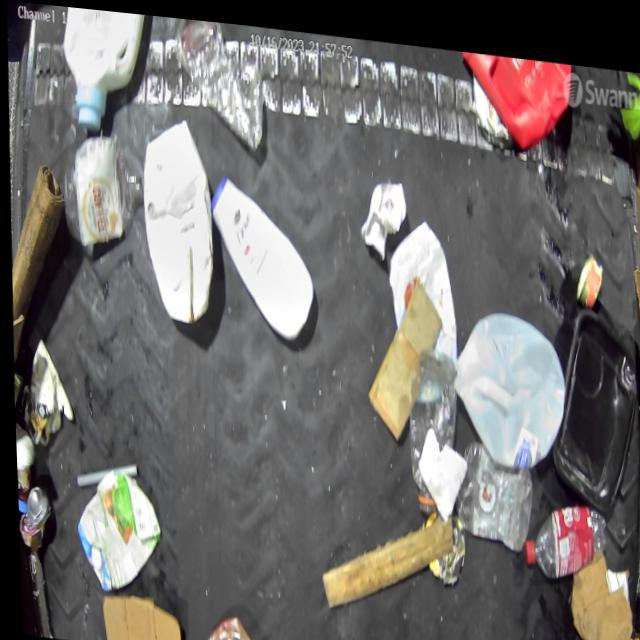can: (471, 73, 512, 138), (572, 238, 601, 298), (20, 481, 49, 529)
milk_jug: (446, 289, 565, 467), (134, 108, 216, 325), (59, 5, 149, 135)
non_white_jug: (457, 40, 574, 146)
plastic_bottle: (400, 333, 456, 511), (517, 488, 605, 575)
